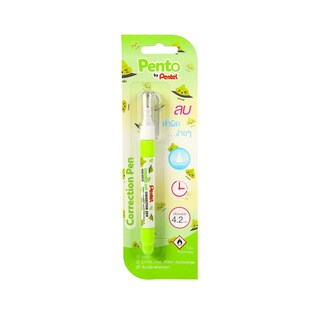Correction_fluid: (135, 88, 160, 257)
